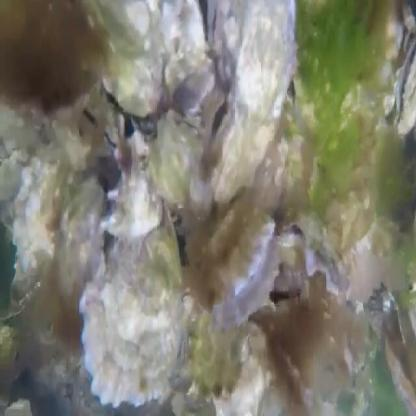Oyster- Indeterminate: (151, 108, 210, 209), (166, 48, 211, 109), (84, 95, 122, 159), (396, 37, 416, 136)
Oyster-Closed: (81, 202, 185, 411), (207, 0, 299, 207), (0, 0, 109, 110), (91, 0, 164, 113), (57, 180, 105, 311), (105, 132, 163, 239)
Oyster-Open: (185, 189, 281, 329), (278, 212, 354, 300), (386, 293, 416, 416)
